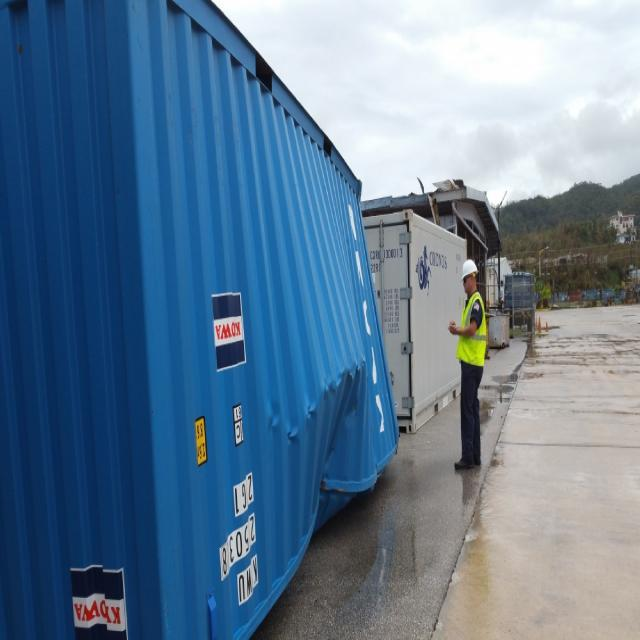dent: (248, 356, 407, 531)
